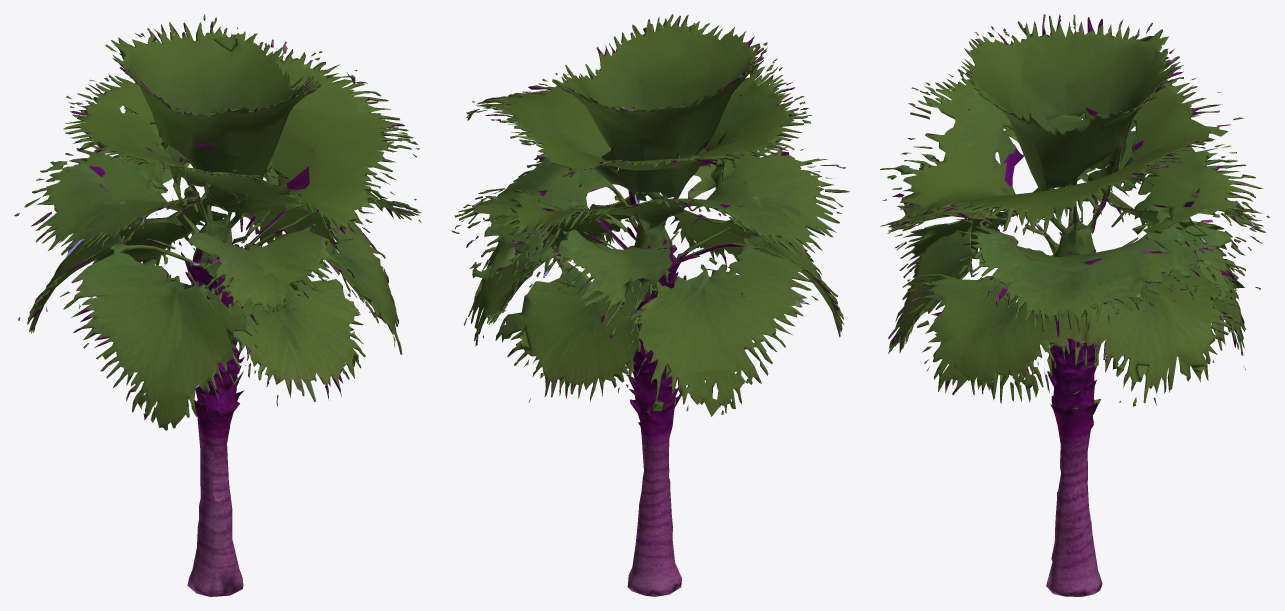
File: g-palm.glb
The picture shows the model from 3 angles, left to right: view 1: azimuth 30°, elevation 25°; view 2: azimuth 150°, elevation 25°; view 3: azimuth 270°, elevation 25°; orthographic projection.
Parts seen in each view (by area): view 1: world; view 2: world; view 3: world.
Part boxes in pixels (bbox=[...]): world: bbox=[14, 14, 421, 596]; world: bbox=[451, 14, 850, 596]; world: bbox=[880, 14, 1269, 596].
Bounding box in the file's own units: 1.33 × 1.98 × 1.32.
1 material, 1 textured.
